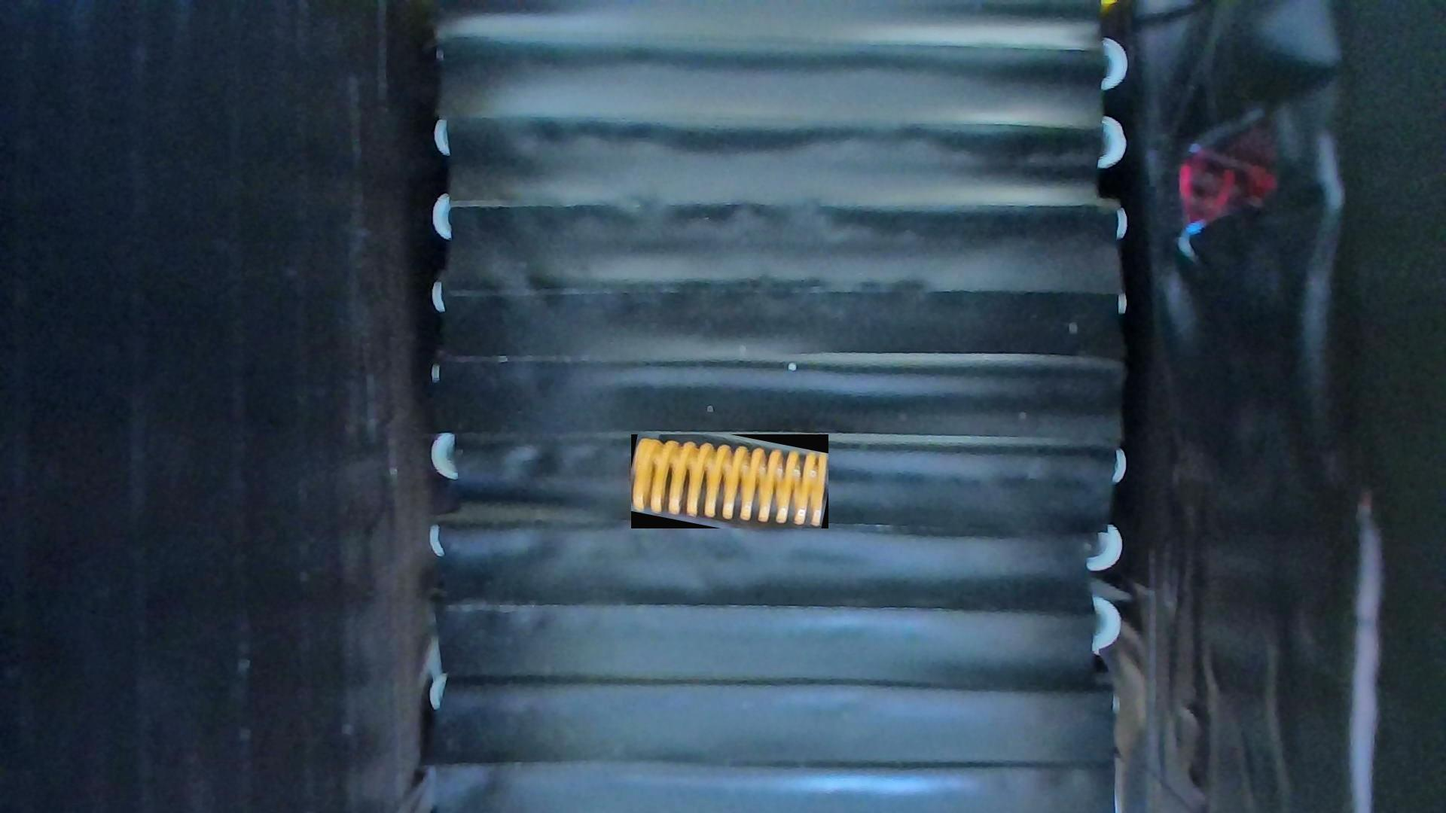spring: (630, 434, 828, 529)
